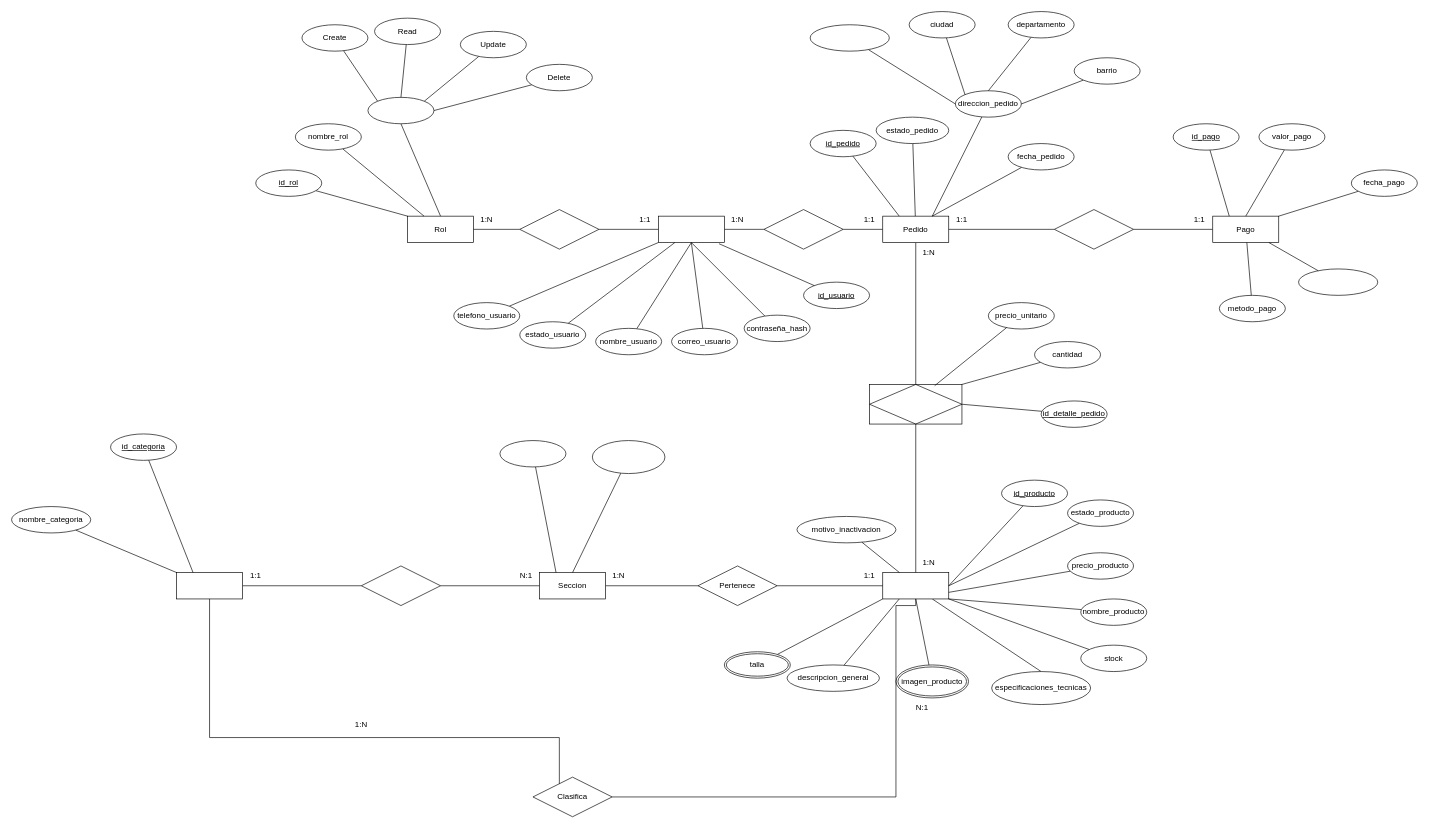
Image size: 1429x828. Some labels were removed from this diagram. The shapes that lost their labels are listed below. From the top down, each one's box as (x1, y1, x2, y2) in pixels, then its label:
(809, 24, 889, 51): direccion_detallada
(367, 97, 434, 124): CRUD
(519, 209, 599, 249): Tiene_asignado
(658, 215, 724, 243): Usuario
(763, 209, 843, 249): Realiza
(1054, 209, 1134, 249): Registra
(1298, 268, 1378, 295): banco_origen
(869, 384, 962, 424): Detalle_Pedido
(499, 440, 566, 467): id_seccion
(592, 440, 665, 474): nombre_seccion
(176, 572, 243, 599): Categoria
(361, 565, 441, 606): tiene
(882, 572, 949, 599): Producto
